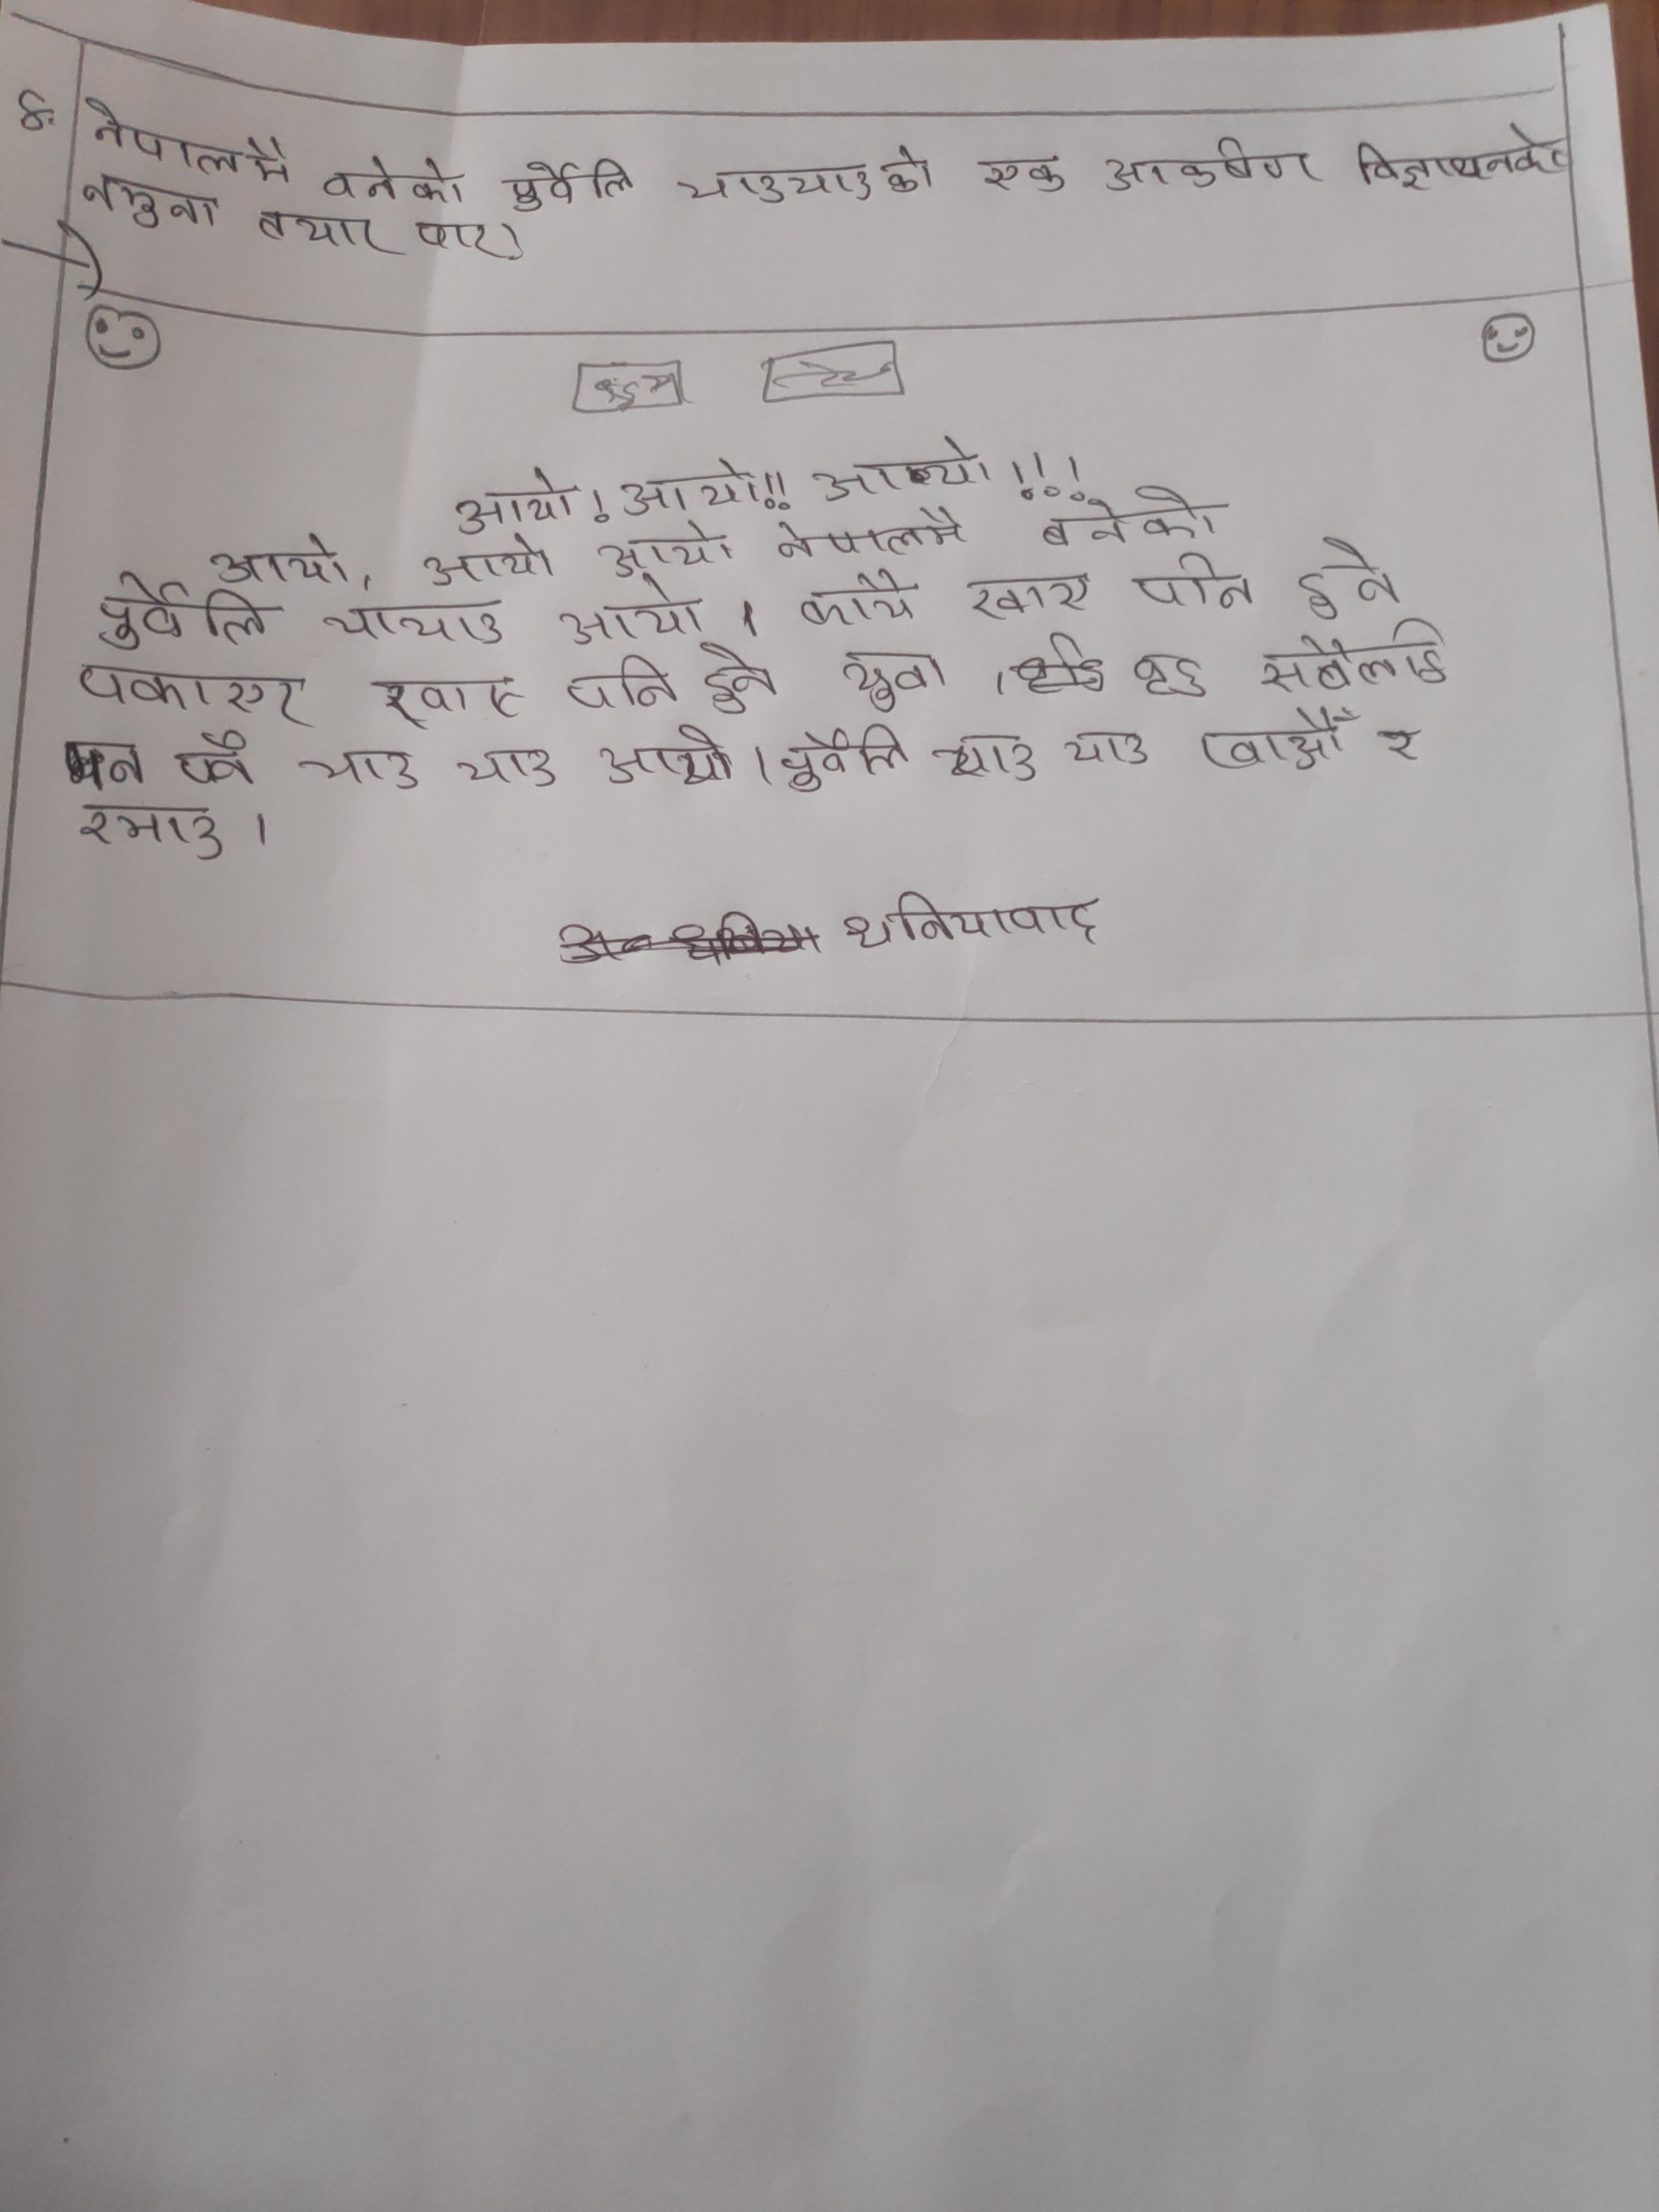text: (84, 92, 296, 185), (842, 883, 1115, 953), (1347, 122, 1582, 190), (64, 658, 308, 723), (673, 146, 943, 204), (1253, 627, 1459, 697), (84, 578, 282, 648), (1098, 134, 1323, 193), (1192, 700, 1366, 775), (1039, 484, 1230, 552), (805, 434, 995, 502), (770, 503, 972, 564), (551, 575, 711, 648), (321, 590, 512, 651), (71, 794, 230, 867), (1288, 529, 1406, 624), (769, 725, 918, 794), (599, 723, 735, 796), (617, 455, 765, 519), (833, 643, 953, 719), (378, 669, 525, 732), (71, 174, 221, 235), (1121, 550, 1260, 615), (321, 150, 471, 209), (202, 533, 356, 590), (453, 469, 575, 540), (416, 533, 563, 592), (596, 517, 742, 577), (791, 568, 924, 632), (502, 150, 638, 212), (251, 197, 394, 254), (962, 566, 1100, 624), (451, 726, 566, 794), (552, 658, 683, 716), (52, 725, 150, 798), (298, 744, 430, 796), (1117, 643, 1216, 709), (697, 643, 782, 716), (169, 725, 258, 791), (932, 732, 1040, 786), (415, 207, 511, 265), (978, 148, 1073, 199), (1060, 730, 1154, 772), (1380, 716, 1422, 780)
